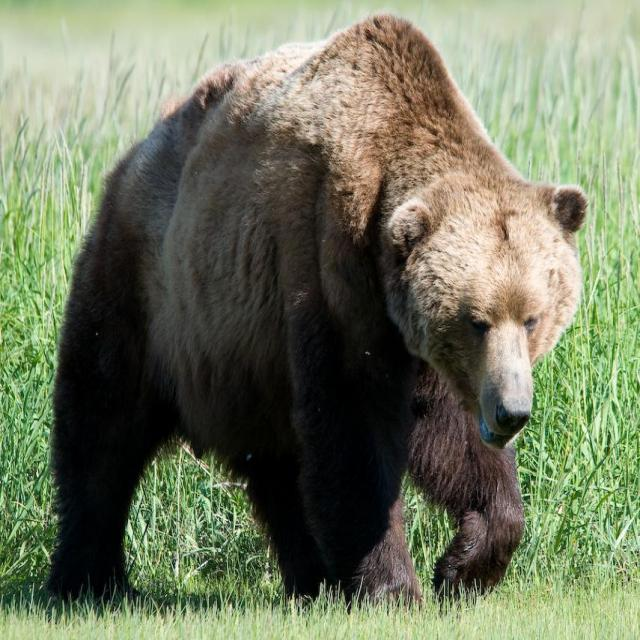Bear: (44, 13, 589, 610)
